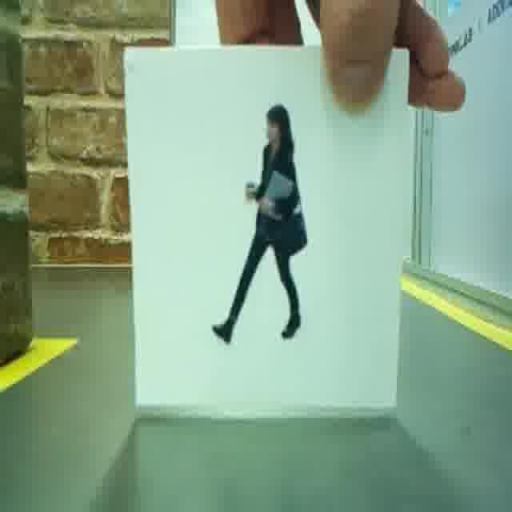human: (212, 105, 306, 342)
